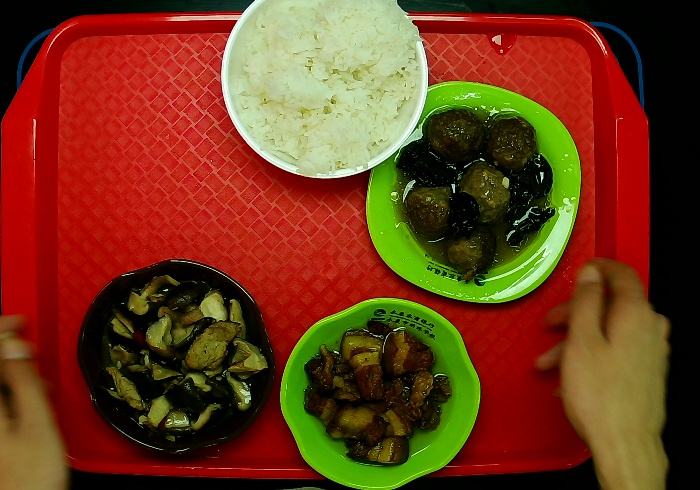YKMZ-Fan_Wan: (223, 5, 432, 182)
YKMZ-Ka_Fei_Ao_Bian_Wan: (75, 258, 283, 458)
YKMZ-Lv_Se_Ao_Bian_Wan: (278, 296, 481, 487)
YKMZ-Lv_Se_Fang_Die: (363, 80, 584, 301)
